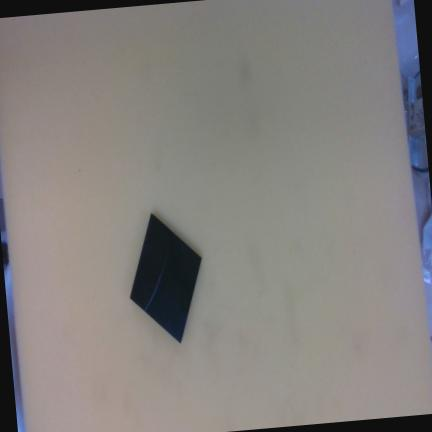tile: (121, 213, 210, 343)
